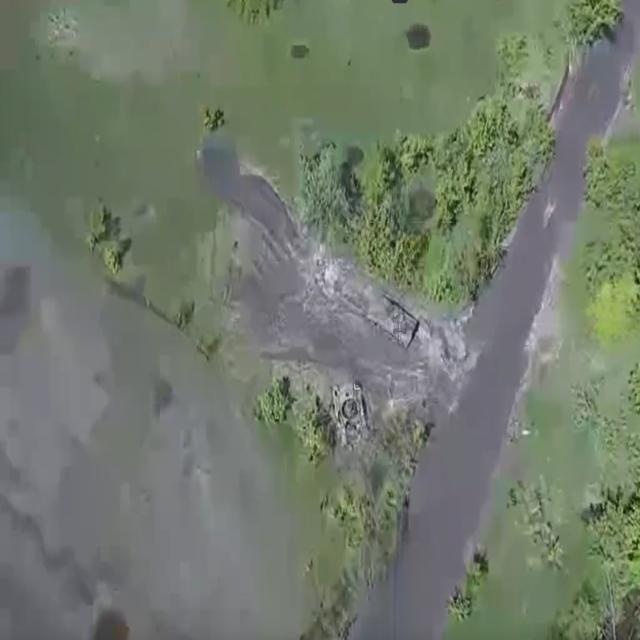AIFV: (363, 293, 423, 354)
Destroyed: (331, 379, 372, 457)
